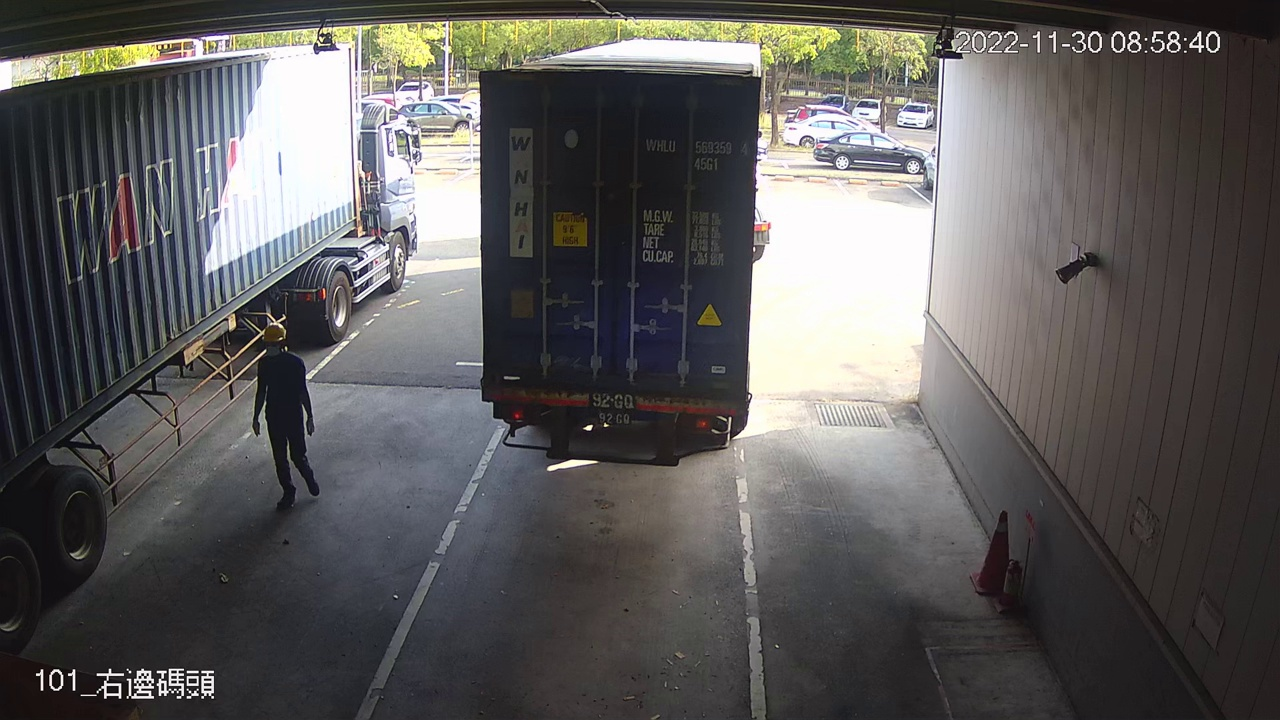container: (640, 134, 754, 176)
